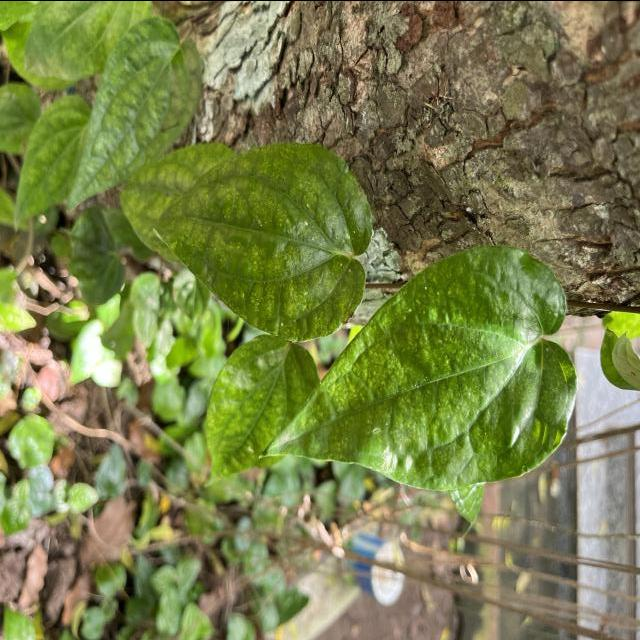Piper betle: (256, 241, 580, 493), (150, 140, 376, 343)
